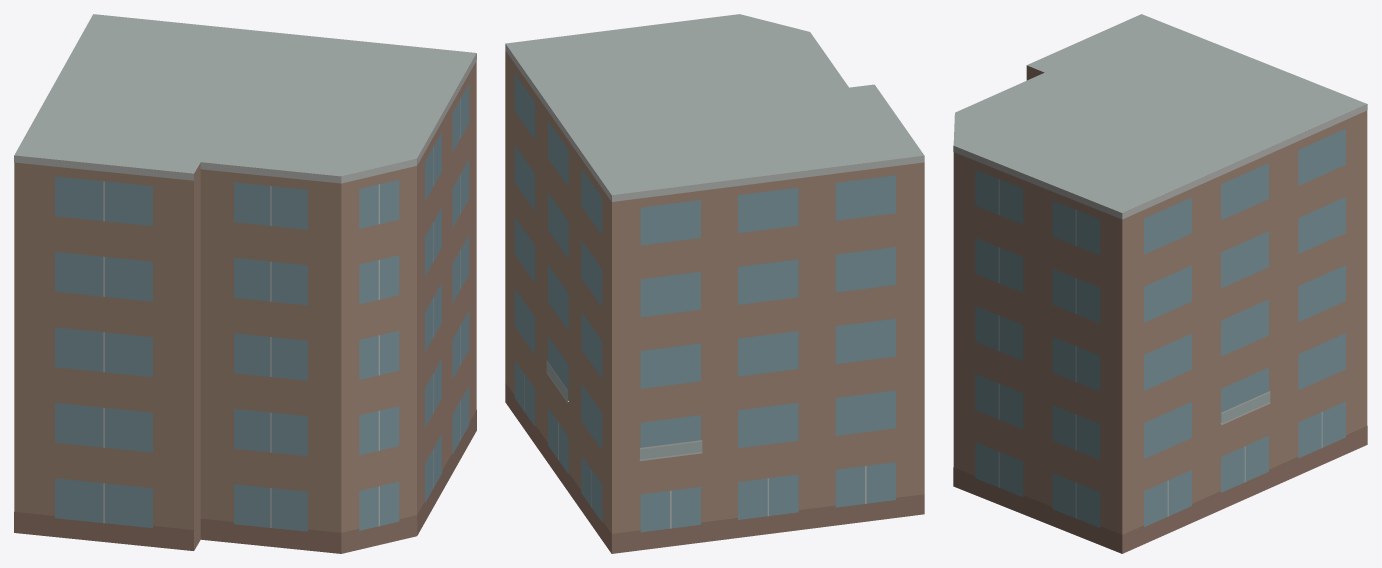
The model's file is survey-upis-32712337.glb.
3 renders of one model, left to right at view 1: azimuth 30°, elevation 25°; view 2: azimuth 150°, elevation 25°; view 3: azimuth 270°, elevation 25°, orthographic. The views are drawn at different scales.
Parts seen in each view (by area): view 1: survey-upis-32712337.tmp; view 2: survey-upis-32712337.tmp; view 3: survey-upis-32712337.tmp.
Part boxes in pixels (<box>): survey-upis-32712337.tmp: <box>14,14,476,553</box>; survey-upis-32712337.tmp: <box>505,14,924,553</box>; survey-upis-32712337.tmp: <box>953,14,1367,553</box>.
Bounding box in the file's own units: 16.3 × 13 × 14.32.
